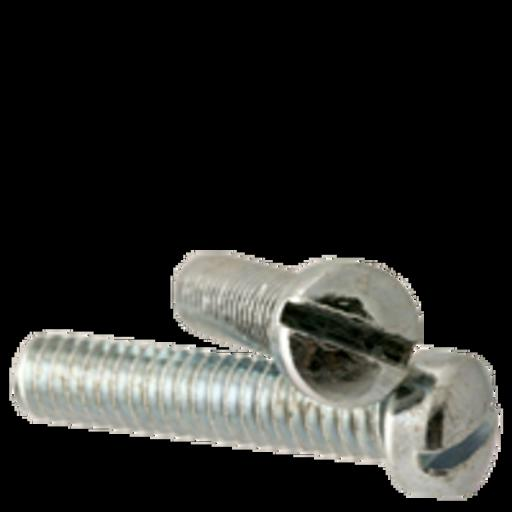Slotted: (274, 256, 419, 409)
